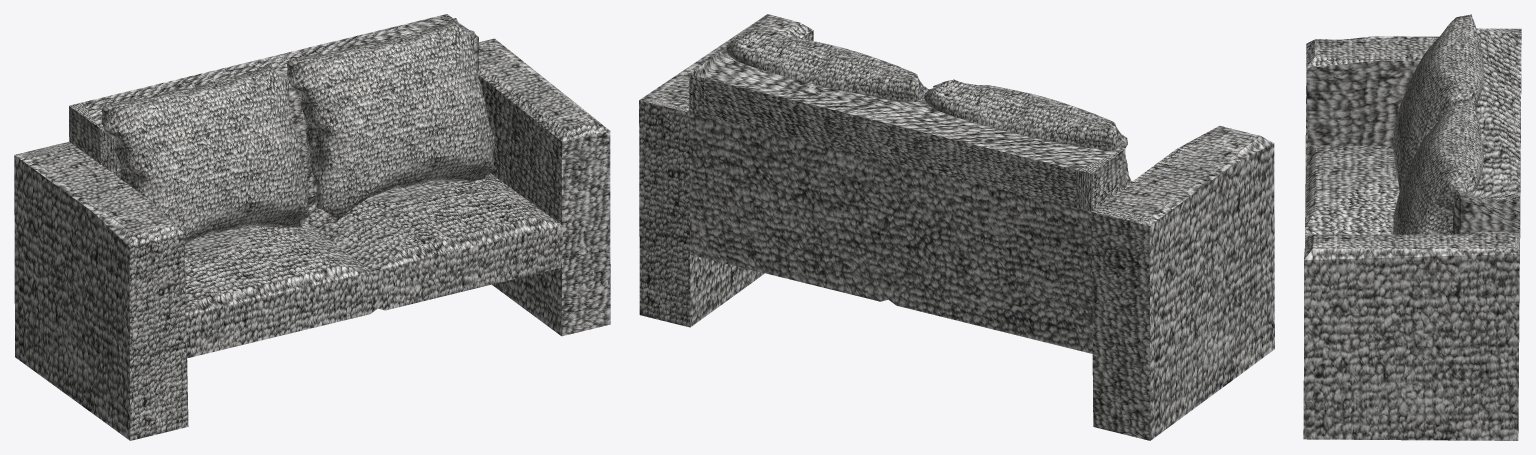
The model's file is canapé gris terminé.FBX.
The picture shows the model from 3 angles, left to right: view 1: azimuth 30°, elevation 25°; view 2: azimuth 150°, elevation 25°; view 3: azimuth 270°, elevation 25°; orthographic projection. The views are drawn at different scales.
Parts seen in each view (by area): view 1: Objet016, Rectangle004, Rectangle003; view 2: Objet016, Rectangle003, Rectangle004; view 3: Objet016, Rectangle004, Rectangle003.
Boxes of the visible parts, <box> form: Objet016: <box>14,14,610,440</box>; Rectangle004: <box>287,18,496,221</box>; Rectangle003: <box>101,63,310,242</box>; Objet016: <box>639,14,1274,440</box>; Rectangle003: <box>923,79,1131,185</box>; Rectangle004: <box>726,31,928,101</box>; Objet016: <box>1303,28,1521,440</box>; Rectangle004: <box>1393,98,1483,234</box>; Rectangle003: <box>1393,14,1483,190</box>.
Size of the model in its own units: 402 by 209 by 171.
1 material, 1 textured.
